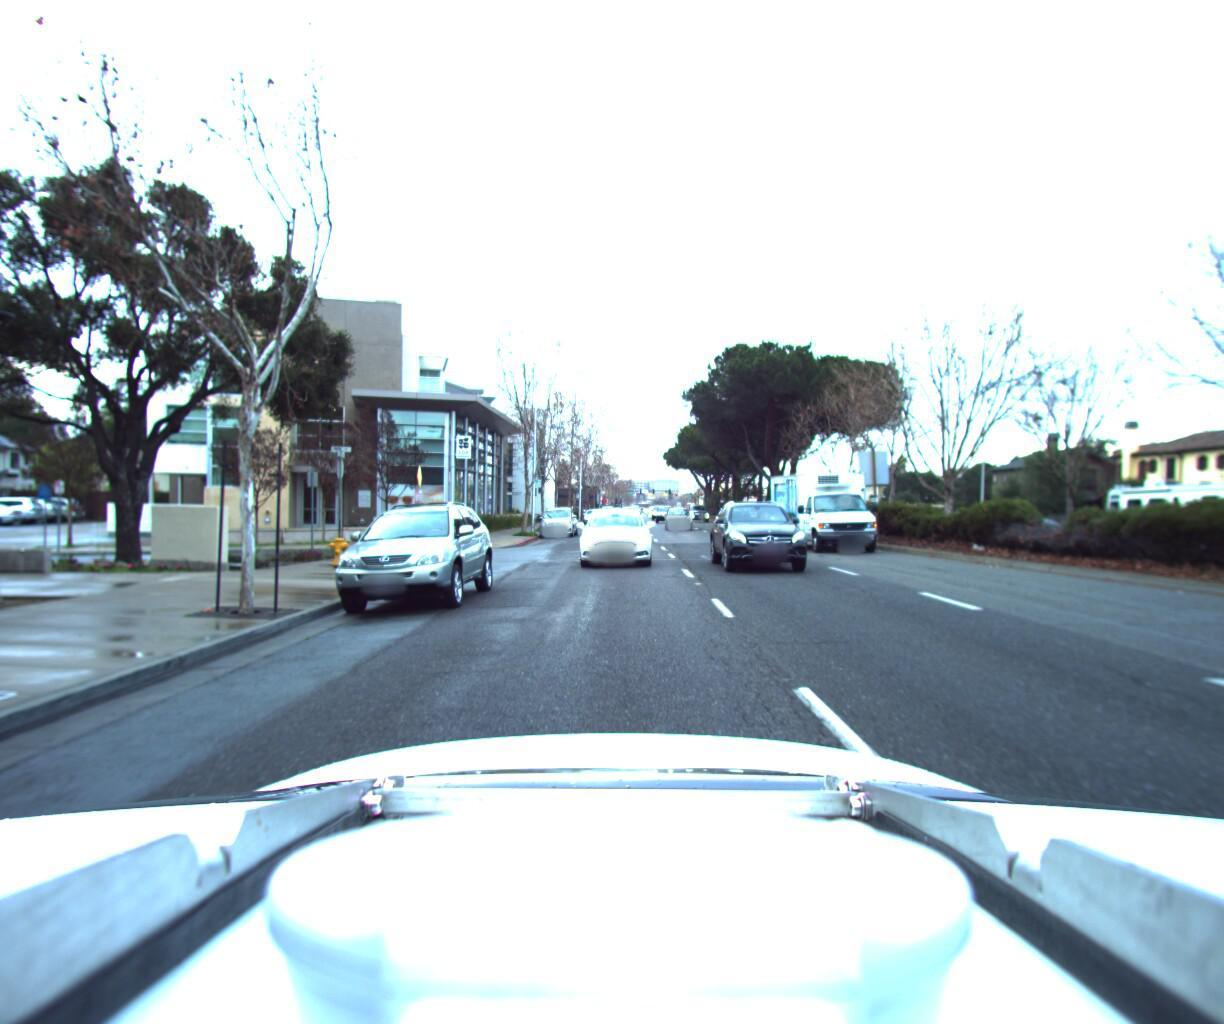car: (322, 497, 495, 621), (708, 492, 827, 574), (575, 500, 653, 565), (536, 499, 579, 534), (661, 504, 698, 529), (652, 501, 674, 518), (688, 503, 709, 519)
other_vehicle: (1088, 461, 1224, 555)
truck: (771, 456, 906, 551)
